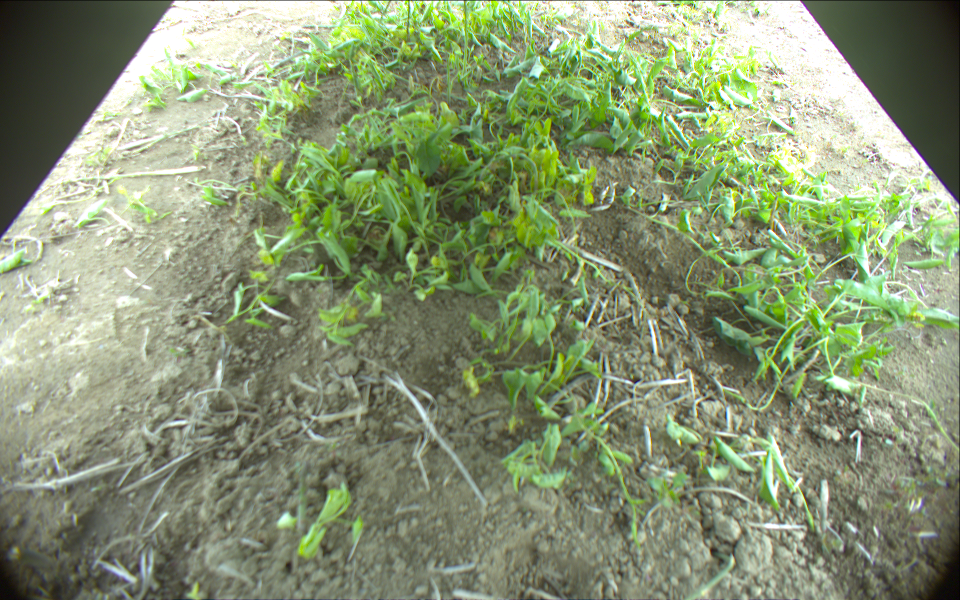aspa: (296, 461, 308, 535), (463, 1, 469, 67), (377, 1, 391, 29), (405, 1, 412, 39)
